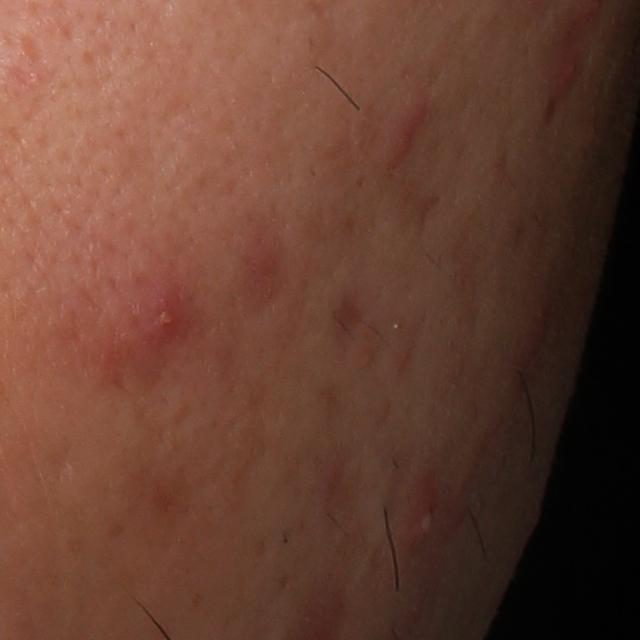atrophic_scar: (411, 192, 446, 239), (15, 32, 45, 62)
papule: (375, 96, 431, 173), (553, 53, 581, 86)
pustule: (121, 268, 193, 354), (402, 482, 440, 554)
